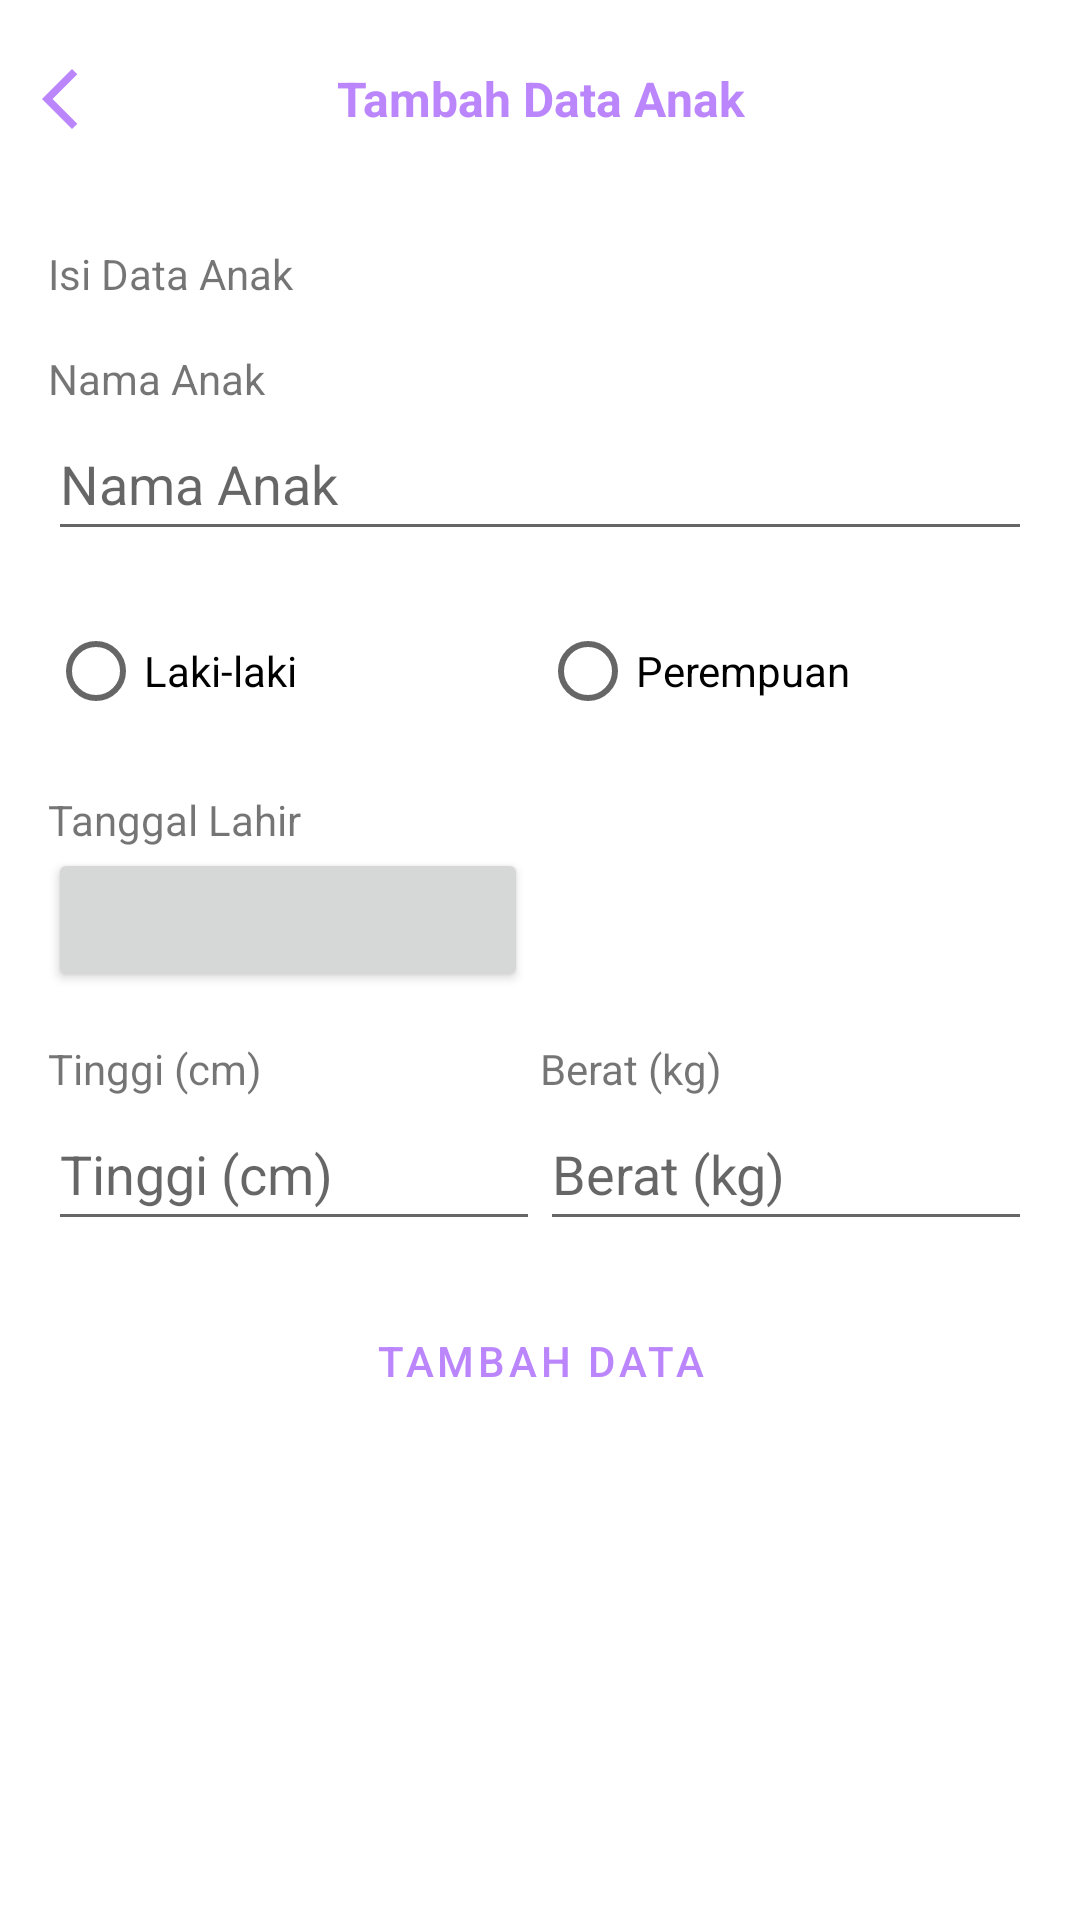

Icon bounding boxes for this 1080x1920 phone screenshot, format (x1, y1, x2, y2):
back: (42, 69, 77, 129)
